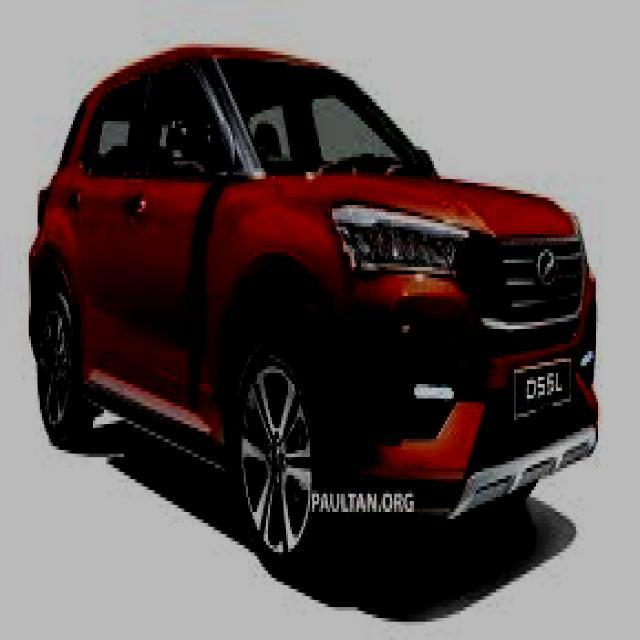PeroduaAtiva: (27, 42, 601, 560)
